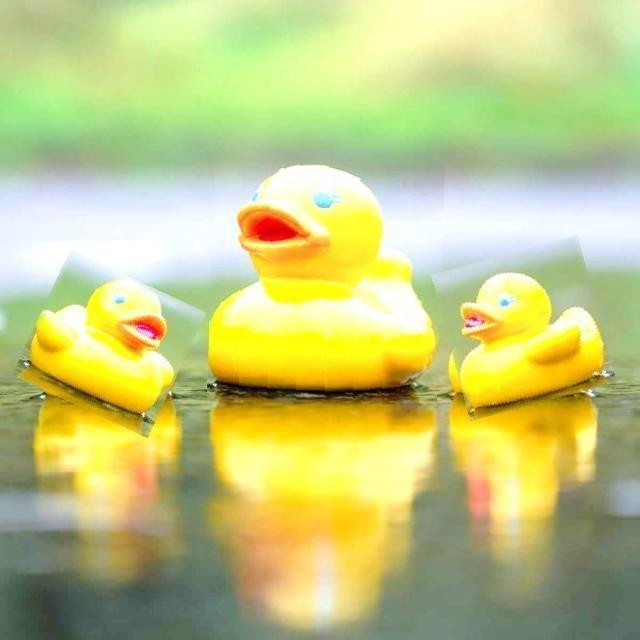rubber-duck: (207, 164, 434, 389), (29, 255, 173, 411), (448, 271, 602, 407)
